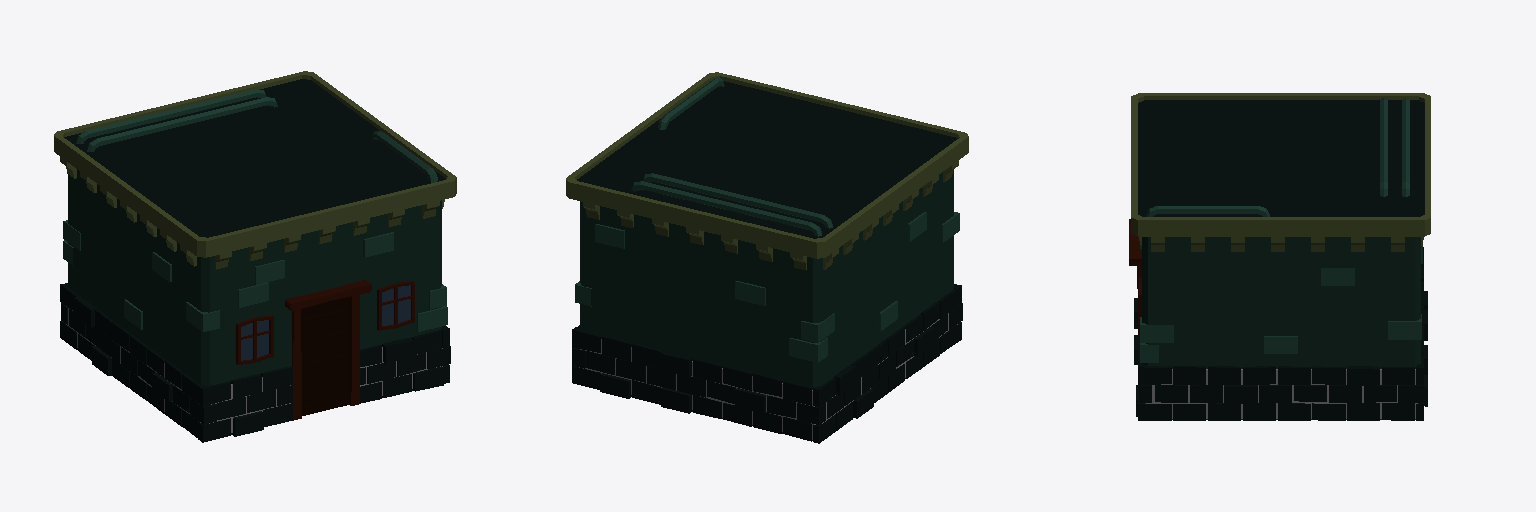
File: 1Story_Mat.obj
3 renders of one model, left to right at view 1: azimuth 30°, elevation 25°; view 2: azimuth 150°, elevation 25°; view 3: azimuth 270°, elevation 25°, orthographic.
Visible parts, largest first — view 1: 1Story_Mat_Cube.040; view 2: 1Story_Mat_Cube.040; view 3: 1Story_Mat_Cube.040.
Boxes of the visible parts, box(x1,y1,x2,y2) form: 1Story_Mat_Cube.040: box(54, 71, 456, 442); 1Story_Mat_Cube.040: box(566, 72, 968, 443); 1Story_Mat_Cube.040: box(1129, 93, 1430, 420).
Bounding box in the file's own units: 2.15 × 1.67 × 2.17.